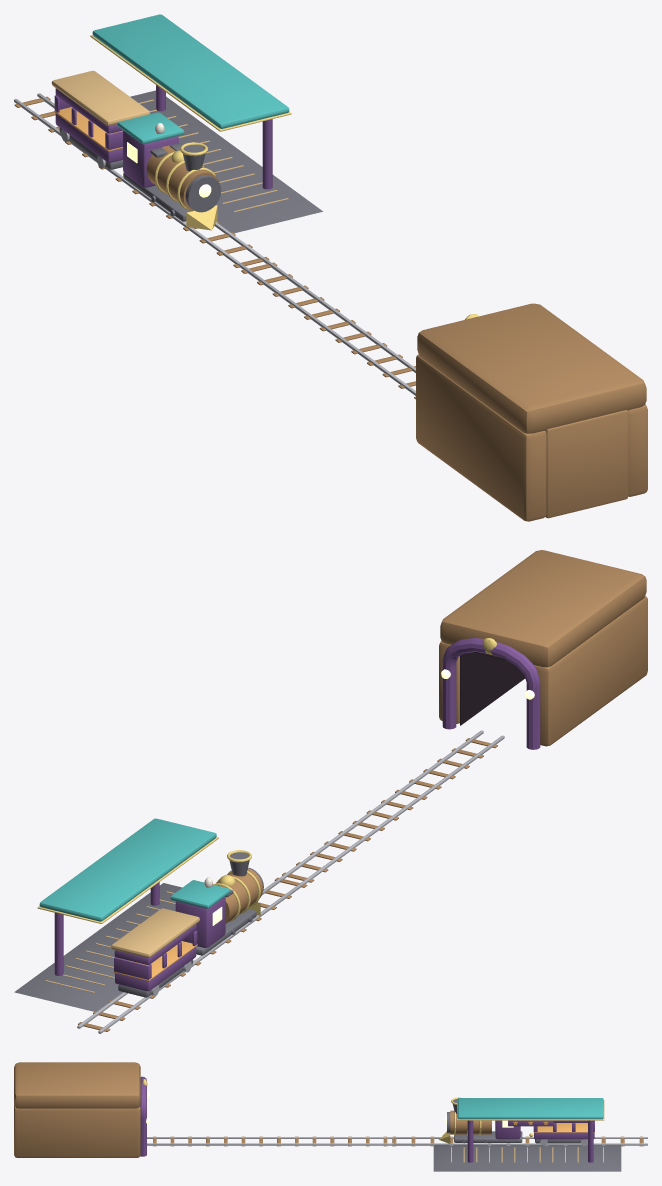
File: ESC_ChocolateFactory.fbx
The picture shows the model from 3 angles, top to bottom: view 1: azimuth 30°, elevation 25°; view 2: azimuth 150°, elevation 25°; view 3: azimuth 270°, elevation 25°; orthographic projection. The views are drawn at different scales.
Parts seen in each view (by area): view 1: Tunnel, Body, Loco, Coach, Track; view 2: Tunnel, Body, Coach, Loco, Track; view 3: Tunnel, Body, Loco, Track, Coach.
Boxes of the visible parts, left/top/right/bottom form: Tunnel: left=416, top=303, right=647, bottom=521; Body: left=14, top=14, right=322, bottom=267; Loco: left=117, top=112, right=221, bottom=230; Coach: left=51, top=70, right=150, bottom=169; Track: left=238, top=257, right=415, bottom=399; Tunnel: left=439, top=550, right=647, bottom=749; Body: left=14, top=818, right=307, bottom=1033; Coach: left=111, top=908, right=199, bottom=997; Loco: left=170, top=850, right=263, bottom=955; Track: left=279, top=730, right=504, bottom=884; Tunnel: left=14, top=1062, right=150, bottom=1157; Body: left=392, top=1098, right=647, bottom=1171; Loco: left=439, top=1097, right=522, bottom=1143; Track: left=147, top=1136, right=394, bottom=1146; Coach: left=529, top=1120, right=594, bottom=1145.
Size of the model in its own units: 8.7 by 5.6 by 50.
